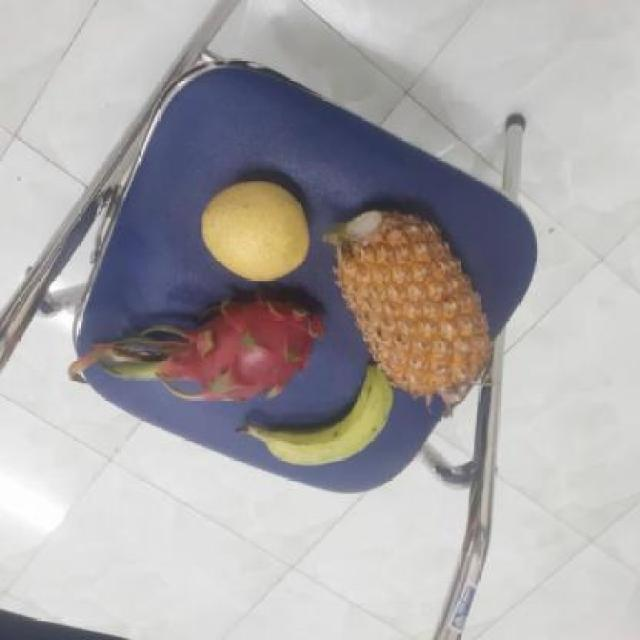banana: (250, 367, 401, 467)
dragon fruit: (151, 288, 331, 401)
pear: (196, 176, 315, 279)
pineapple: (322, 209, 496, 397)
